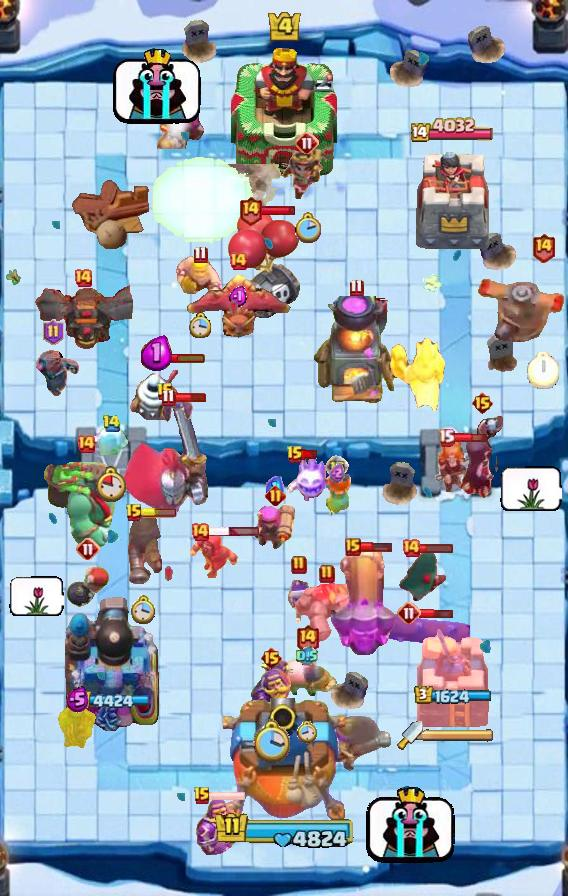bandit: (398, 548, 450, 604)
bar: (153, 352, 206, 364), (208, 526, 260, 537), (419, 607, 454, 620), (453, 431, 488, 444), (209, 790, 246, 802), (260, 205, 297, 216), (418, 543, 454, 554), (359, 541, 392, 553), (173, 392, 207, 403), (141, 508, 177, 518), (302, 449, 319, 460)
bar-level: (295, 623, 320, 654), (531, 232, 556, 263), (238, 195, 263, 226), (397, 601, 421, 625), (76, 537, 100, 561), (325, 455, 349, 479), (295, 131, 319, 155), (260, 646, 283, 670), (471, 391, 494, 415), (43, 319, 64, 345), (265, 485, 286, 506), (401, 538, 421, 558), (190, 522, 210, 542), (76, 434, 96, 454), (73, 268, 93, 288), (228, 251, 248, 271), (102, 414, 121, 433), (193, 786, 211, 806), (125, 503, 143, 523), (286, 445, 304, 465), (156, 382, 174, 402), (438, 428, 455, 447), (319, 564, 335, 584), (291, 555, 307, 575), (345, 538, 361, 556), (161, 388, 176, 407), (349, 278, 364, 297), (193, 245, 208, 264)
barbarian: (175, 256, 225, 300)
bat: (159, 395, 195, 425)
bomber: (66, 566, 110, 608)
cannoneer-tower: (65, 593, 163, 731)
clock: (252, 719, 290, 765), (527, 352, 559, 389), (96, 466, 127, 502), (294, 212, 321, 243), (131, 594, 157, 624), (189, 312, 212, 338), (297, 721, 317, 744)
dagger-duchess-tower: (414, 623, 492, 731)
dagger-duchess-tower-bar: (423, 728, 495, 742)
dirt: (224, 164, 282, 227)
elixir: (141, 335, 172, 371), (66, 686, 89, 713), (296, 646, 318, 666), (266, 476, 284, 500), (229, 286, 248, 307), (329, 463, 345, 483)
emote: (111, 42, 203, 126), (365, 781, 456, 864), (500, 466, 562, 511), (9, 576, 64, 616)
firecracker: (157, 95, 207, 149), (253, 499, 298, 549)
golemite: (295, 583, 359, 643)
ice-spirit: (89, 423, 133, 455)
ice-spirit-evolution: (285, 455, 333, 503)
king-tower: (223, 698, 345, 826), (231, 43, 337, 181)
king-tower-bar: (210, 810, 358, 852)
knight-evolution: (249, 658, 293, 726), (195, 797, 240, 856)
little-prince: (280, 145, 334, 199)
mini-pekka: (25, 344, 81, 400)
musketeer: (332, 711, 392, 771), (125, 510, 163, 586)
night-witch: (459, 413, 505, 501)
queen-tower: (410, 145, 496, 256)
royal-hog: (277, 654, 337, 700)
skeleton-evolution: (284, 580, 314, 626)
spear-goblin: (57, 694, 97, 752)
the-log: (372, 613, 470, 649)
tower-bar: (411, 117, 496, 145), (74, 691, 154, 711), (414, 685, 492, 705)
valkyrie: (434, 441, 486, 493), (318, 468, 356, 520)
wizard: (188, 530, 238, 582)
zappy: (129, 360, 183, 420)
